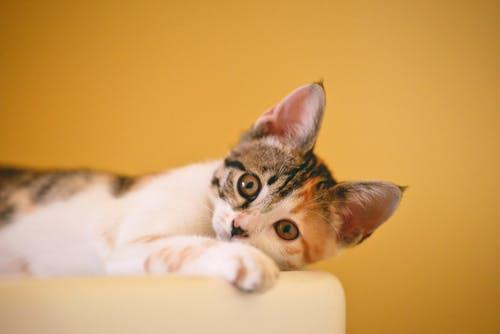kedo: (2, 81, 398, 288)
